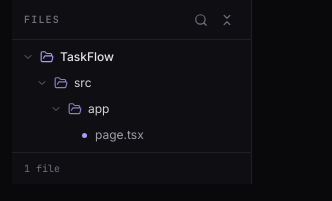
Test case: FileExplorer › collapses everything at once
Expected: the text "page.tsx" is shown, [95,126,144,144]
What coordinates should you click on to do the following:
click the button titled "Collapse folders"
I would click on:
 (227, 20)
Its box is [215,8,239,32].
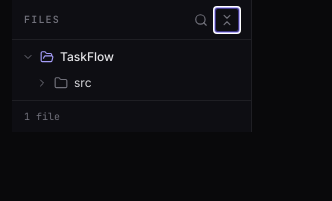
Expected: the text "src" is shown, [74,74,92,92]
Result: the button "page.tsx" is gone
